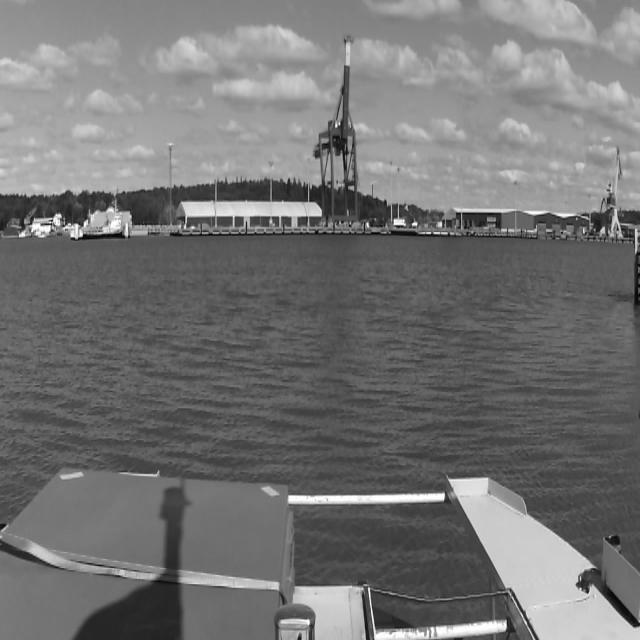ship: (85, 198, 123, 235)
